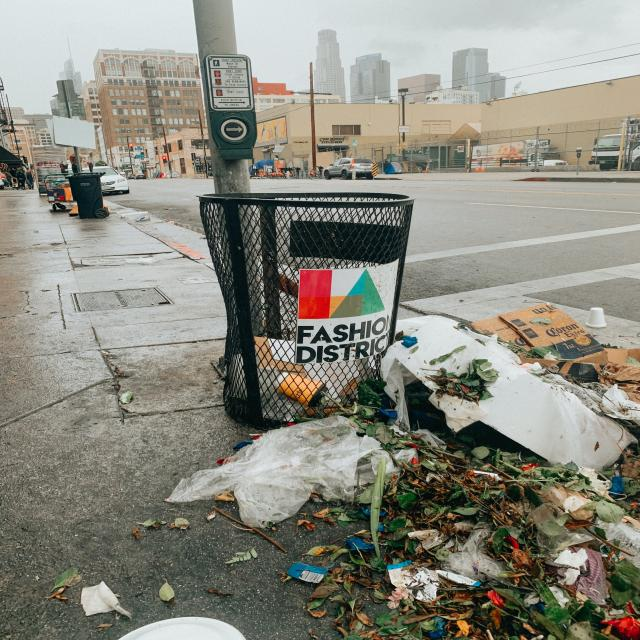cardboard: (492, 302, 609, 375)
plastic: (240, 442, 356, 503)
